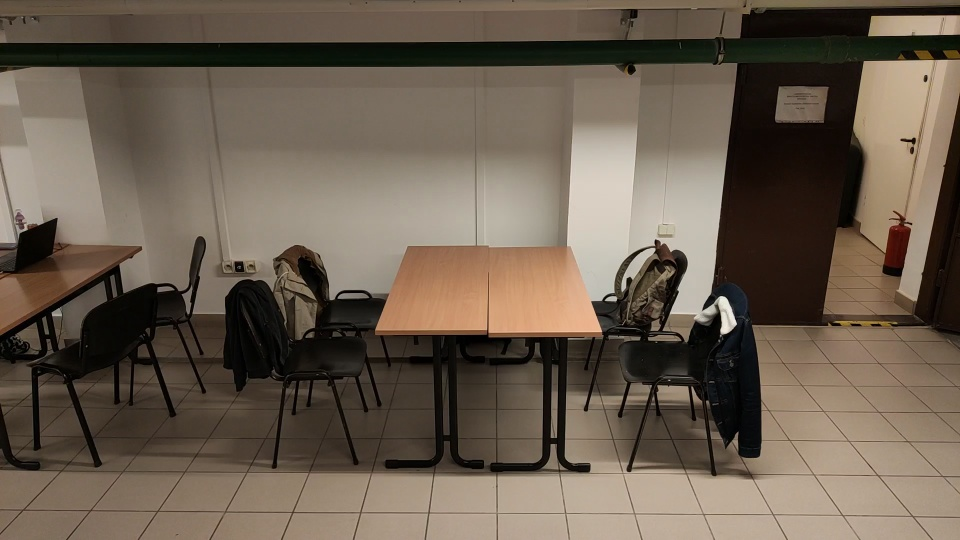chair: (613, 280, 769, 477), (222, 277, 372, 471), (24, 283, 179, 469), (271, 243, 393, 411), (581, 239, 688, 414), (128, 234, 211, 403)
table: (372, 247, 607, 483)
